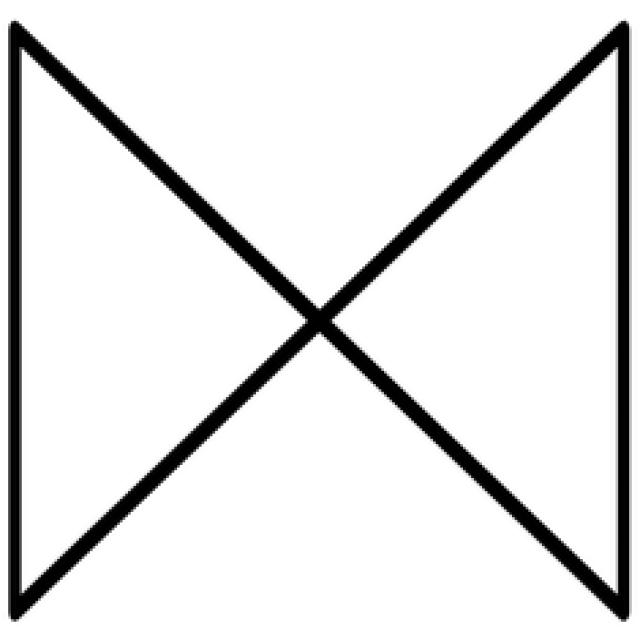Gate valve: (11, 28, 626, 615)
